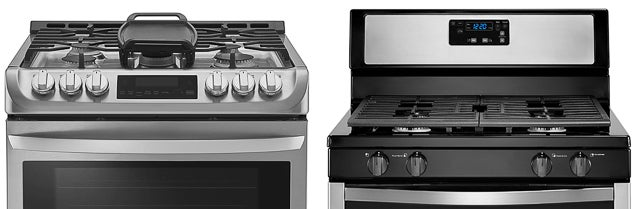stove: (19, 7, 294, 209)
